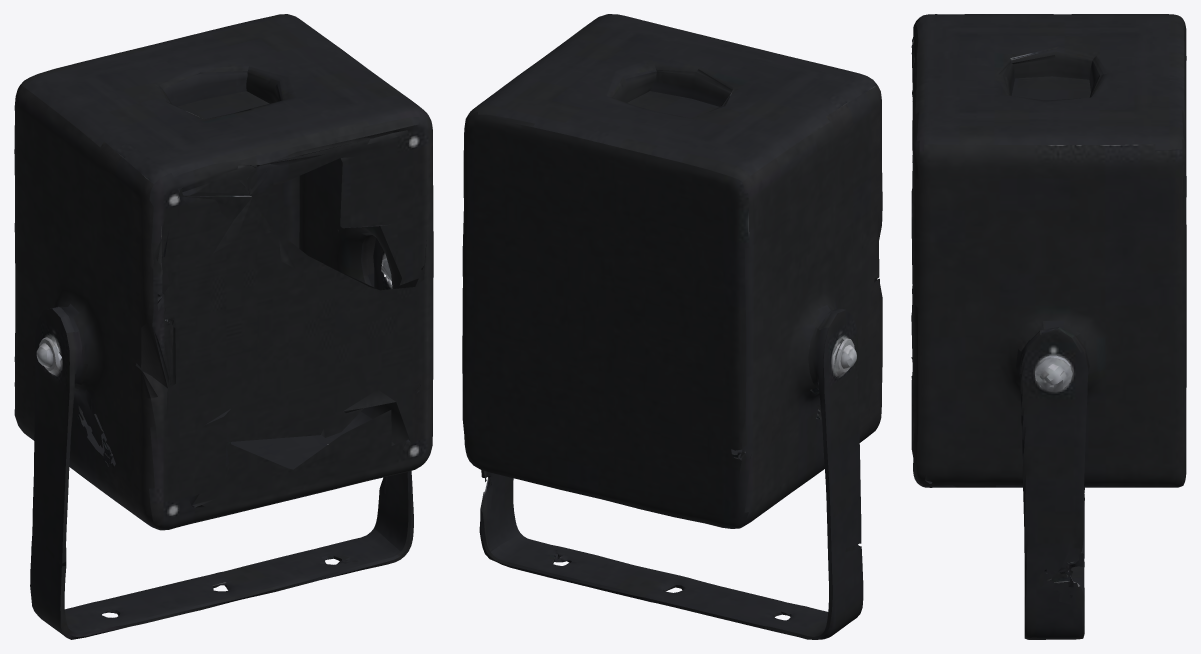
The model's file is w3hpabox.glb.
The picture shows the model from 3 angles, left to right: view 1: azimuth 30°, elevation 25°; view 2: azimuth 150°, elevation 25°; view 3: azimuth 270°, elevation 25°; orthographic projection. The views are drawn at different scales.
Visible parts, largest first — view 1: Mesh0; view 2: Mesh0; view 3: Mesh0.
Part boxes in pixels (x1,y1,x2,y2): Mesh0: [14, 14, 433, 639]; Mesh0: [462, 14, 882, 639]; Mesh0: [911, 14, 1186, 639].
Size of the model in its own units: 0.3441 by 0.45 by 0.2287.
1 material, 1 textured.
